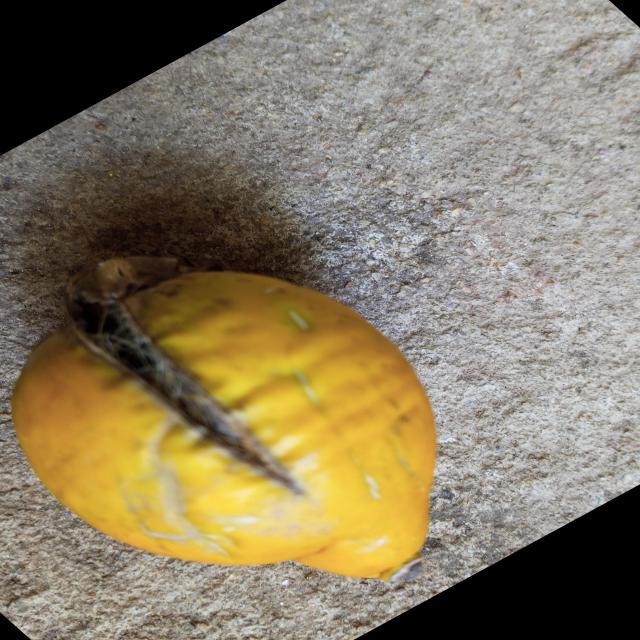damaged: (10, 257, 440, 583)
